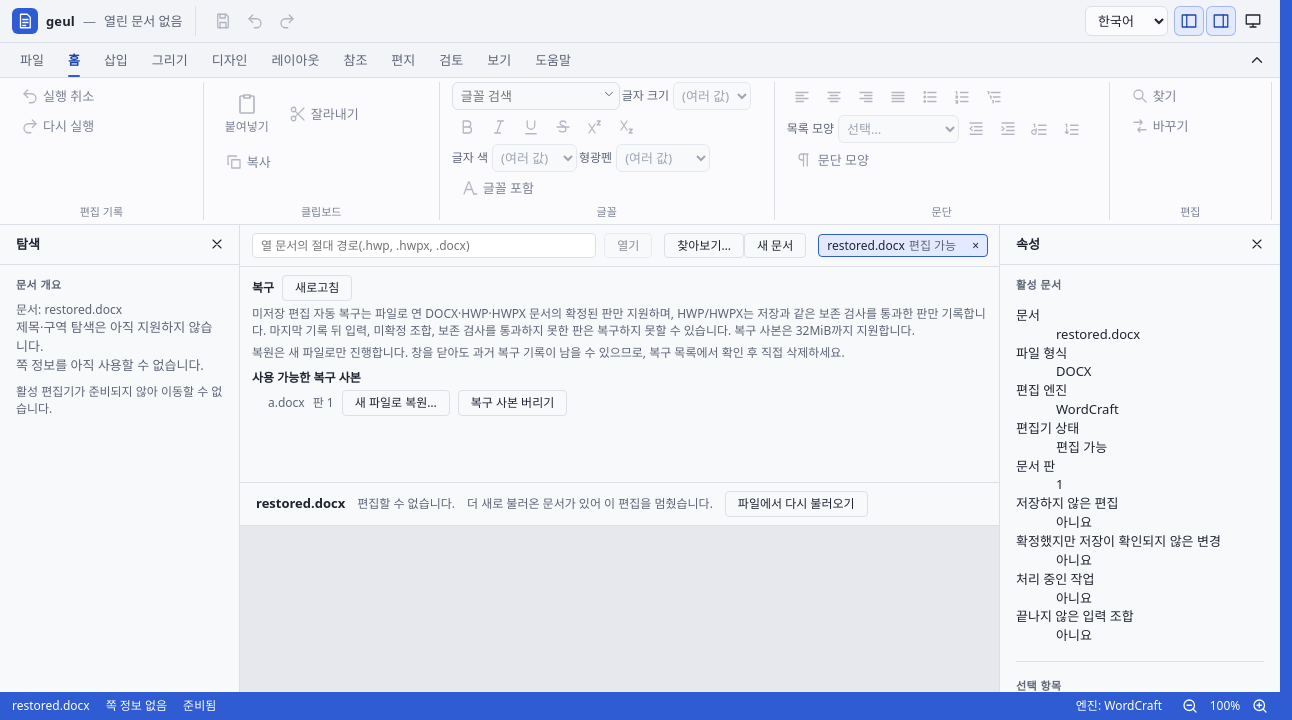
Test: publication warning survives ordinary status and preserves the selected editor (ko)
This screenshot has width=1292, height=720.
Click the button with test id "recovery-restore-r1": click(396, 403) [342, 390, 450, 416]
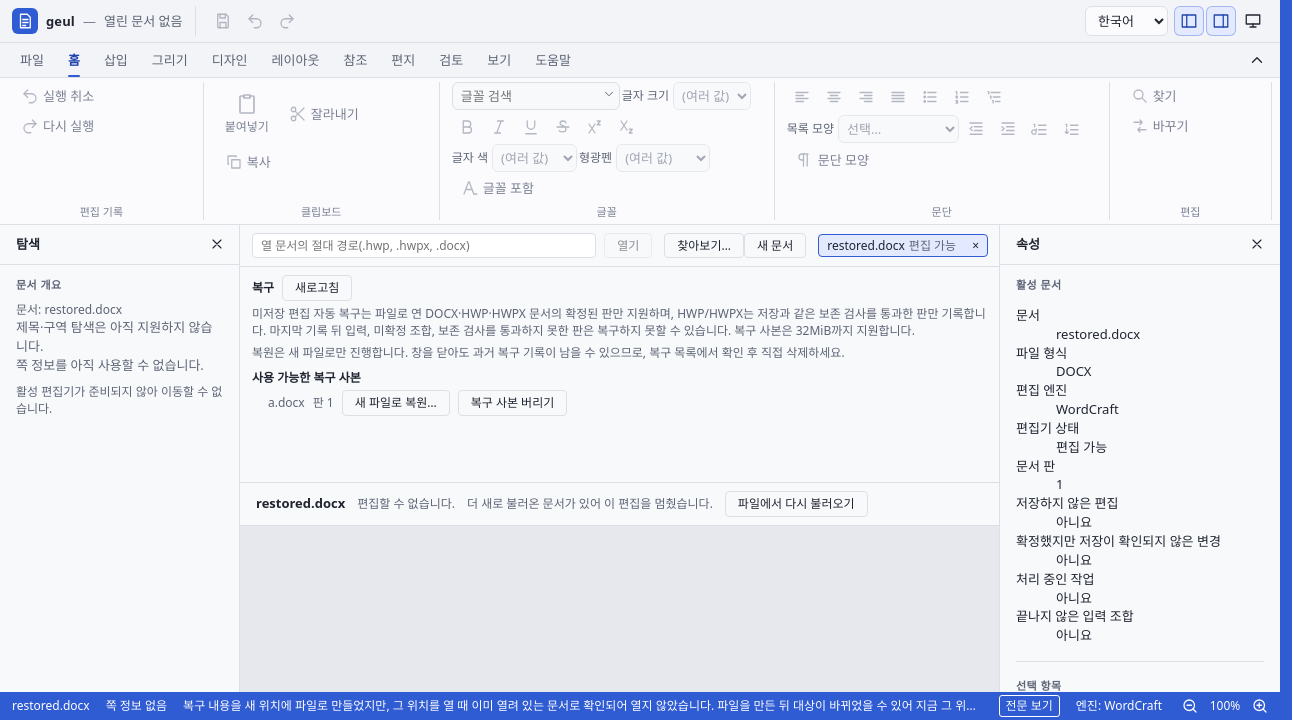
Click the button named "확대": click(1260, 706) [1248, 695, 1272, 717]
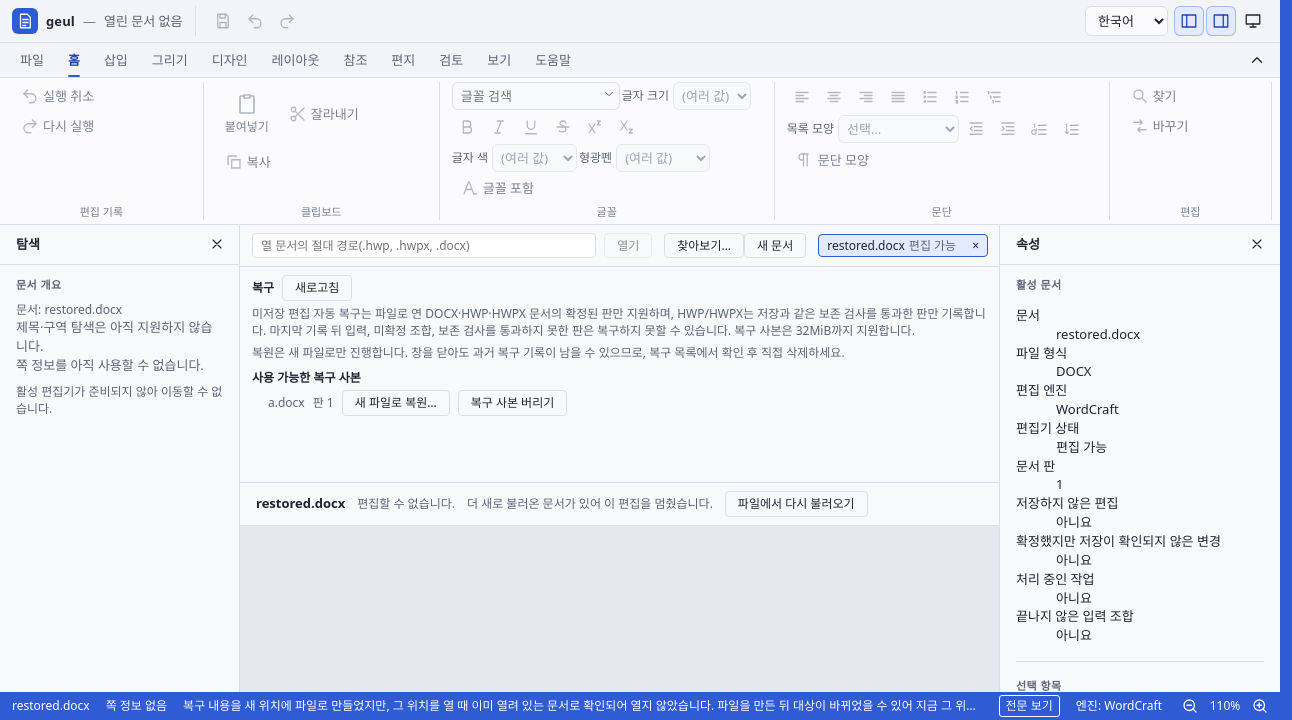
Click the button "전문 보기": click(1029, 706) [998, 695, 1060, 717]
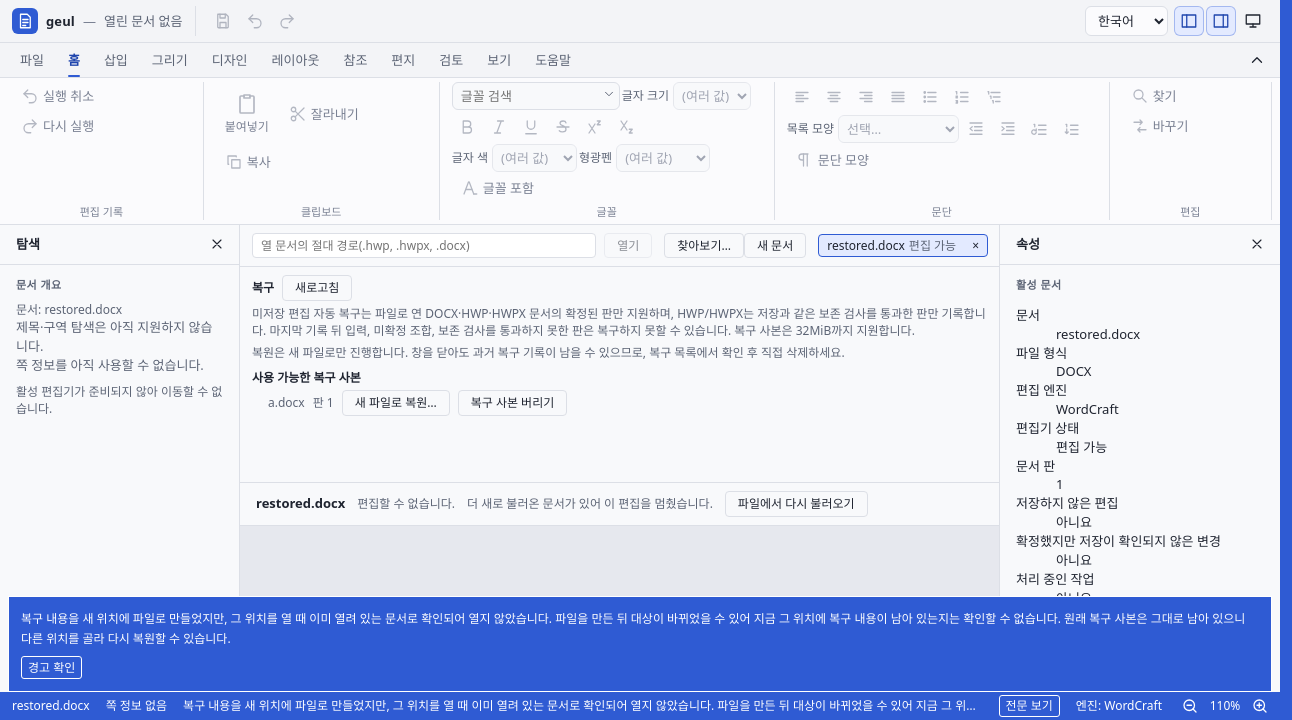
Expected: the element named "파일 게시 경고 전문" does not show "/private/", [8, 596, 1272, 692]
Click the button "경고 확인": click(52, 667) [21, 656, 82, 679]
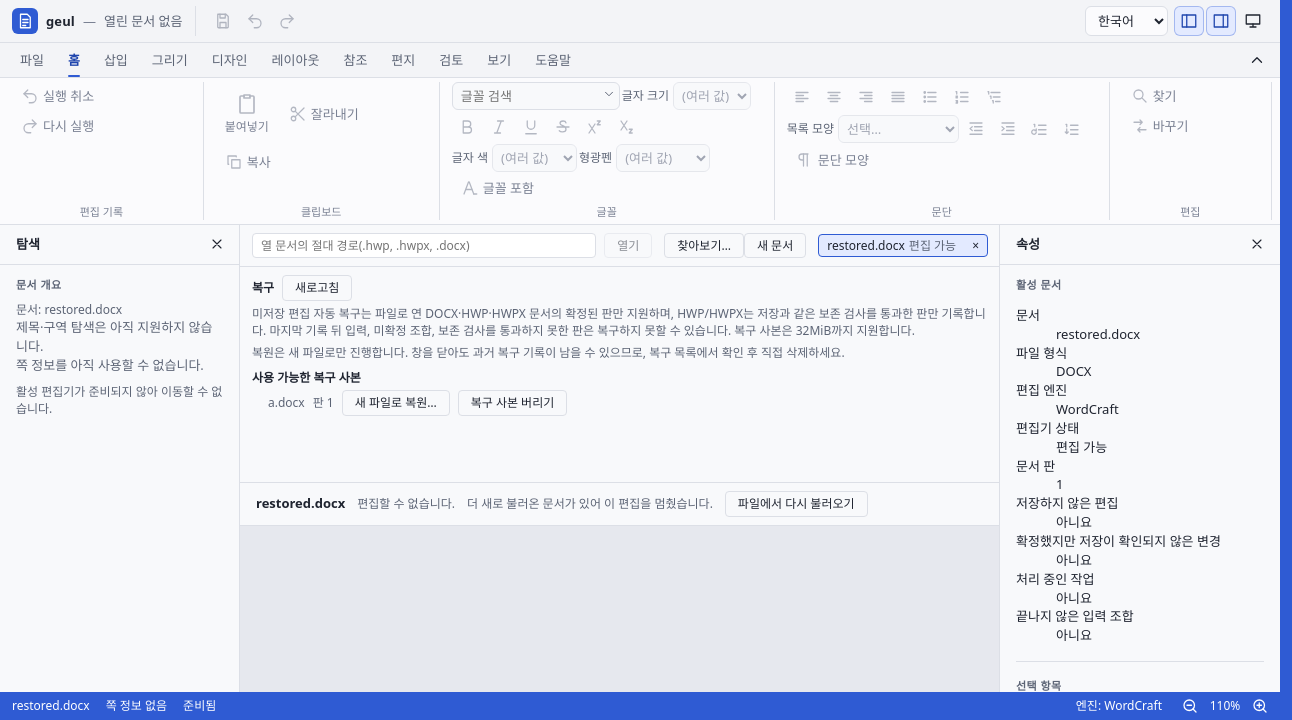
Now the button "전문 보기" is gone
